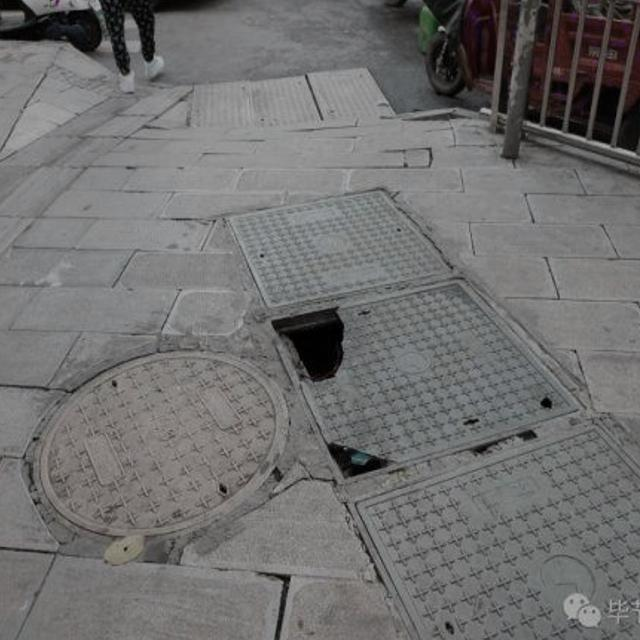broke: (263, 290, 596, 485)
